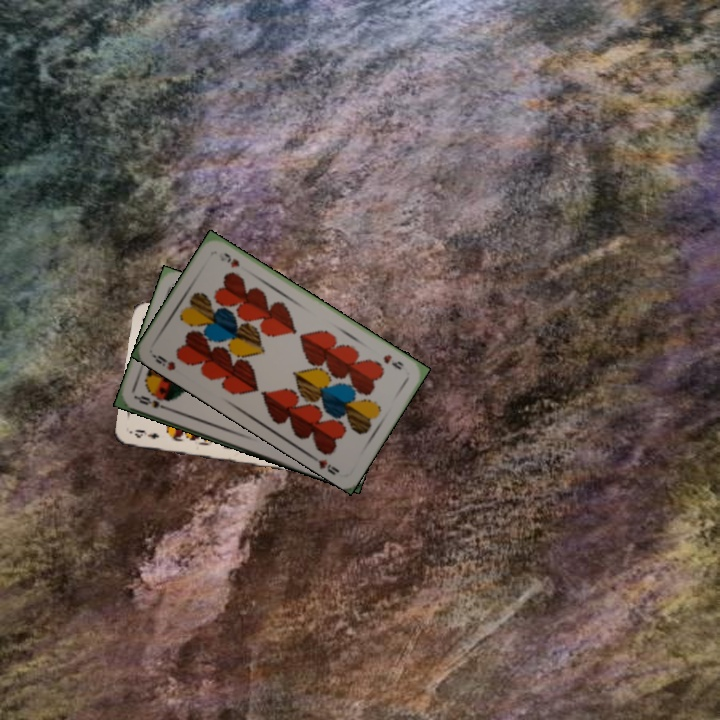E9: (130, 425, 162, 441)
H9: (149, 350, 178, 373), (379, 350, 407, 373)
SO: (132, 392, 172, 413)
